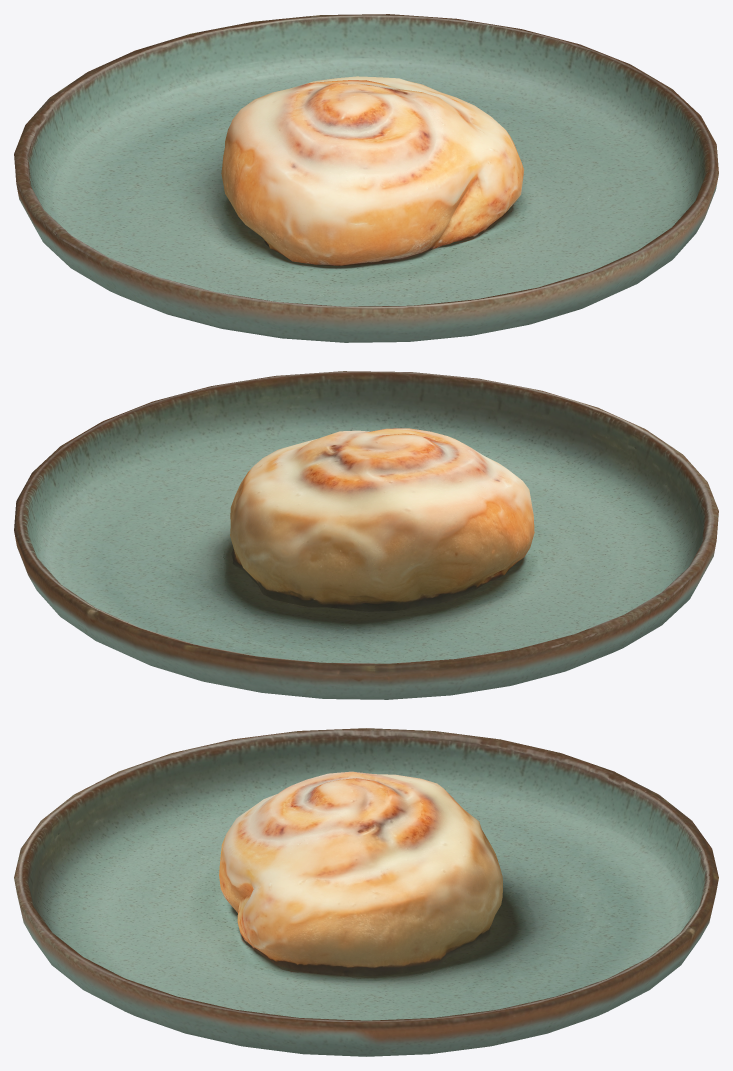
Rendered from RolCanela.glb.
3 views of the same model, one above another, from view 1: azimuth 30°, elevation 25°; view 2: azimuth 150°, elevation 25°; view 3: azimuth 270°, elevation 25° (orthographic).
Visible parts, largest first — view 1: Plato, Rol; view 2: Plato, Rol; view 3: Plato, Rol.
Part boxes in pixels (left/top/right/bottom): Plato: left=14, top=14, right=718, bottom=342; Rol: left=221, top=76, right=524, bottom=266; Plato: left=14, top=371, right=718, bottom=699; Rol: left=230, top=428, right=534, bottom=611; Plato: left=14, top=728, right=718, bottom=1056; Rol: left=219, top=771, right=502, bottom=976.
Bounding box in the file's own units: 0.2163 × 0.0465 × 0.2163.
2 materials, 2 textured.
